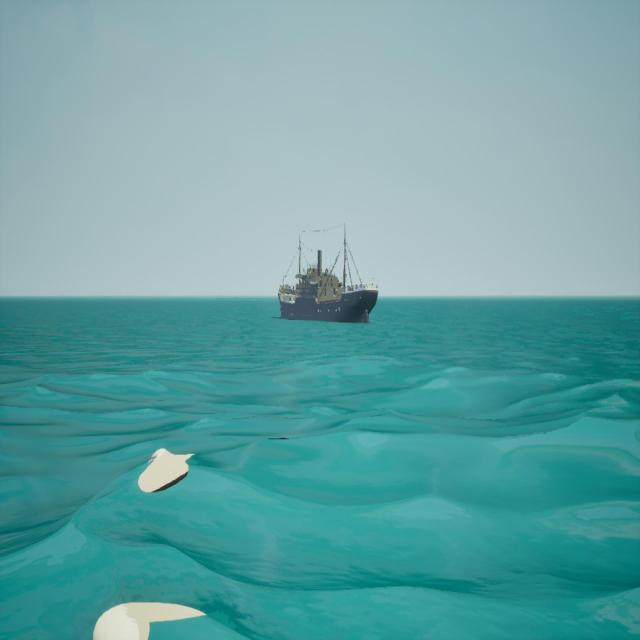fishing ship: (276, 227, 379, 324)
